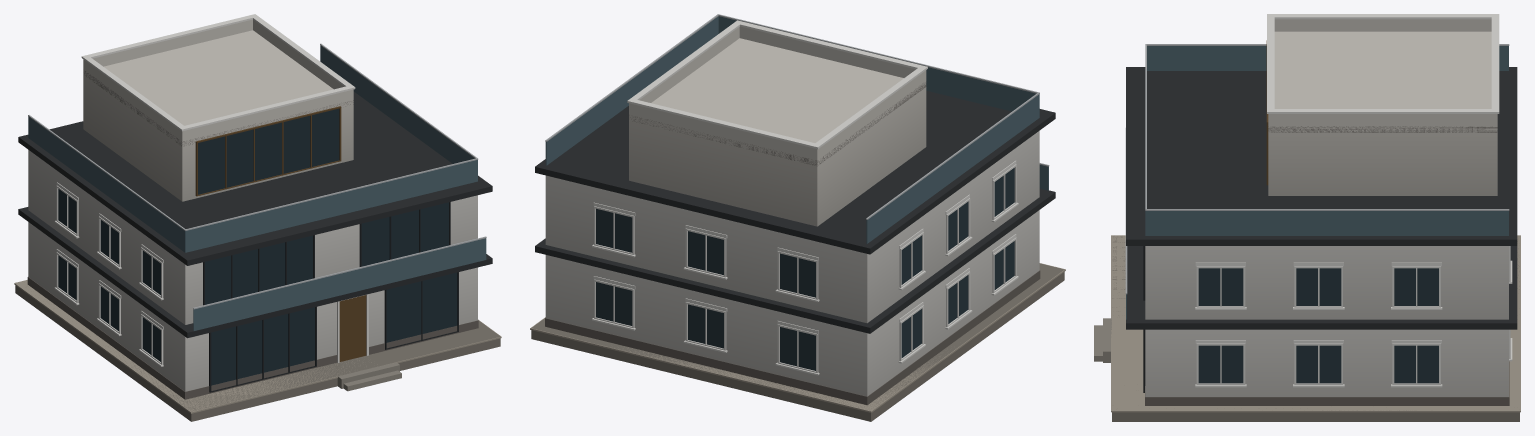
Rendered from ns_dup5_lod1.glb.
3 renders of one model, left to right at view 1: azimuth 30°, elevation 25°; view 2: azimuth 150°, elevation 25°; view 3: azimuth 270°, elevation 25°, orthographic. The views are drawn at different scales.
Parts seen in each view (by area): view 1: ns_dup5_lod1; view 2: ns_dup5_lod1; view 3: ns_dup5_lod1.
Boxes of the visible parts, left/top/right/bottom form: ns_dup5_lod1: left=14, top=14, right=501, bottom=421; ns_dup5_lod1: left=530, top=14, right=1065, bottom=421; ns_dup5_lod1: left=1094, top=14, right=1520, bottom=421.
Bounding box in the file's own units: 14.86 × 10.48 × 15.27.
